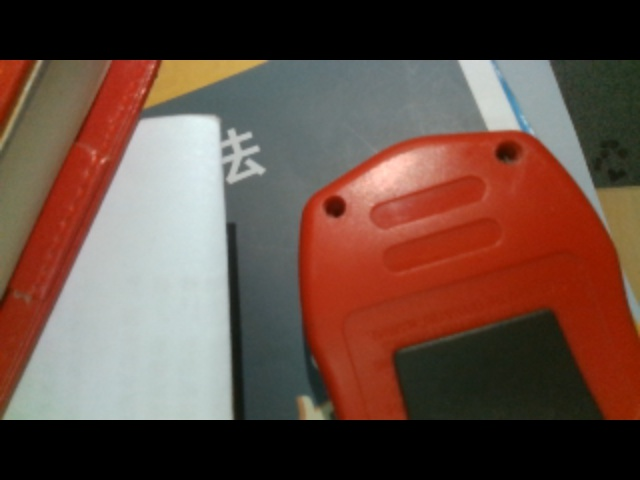Screw holes: (319, 194, 352, 220), (496, 139, 528, 164)
